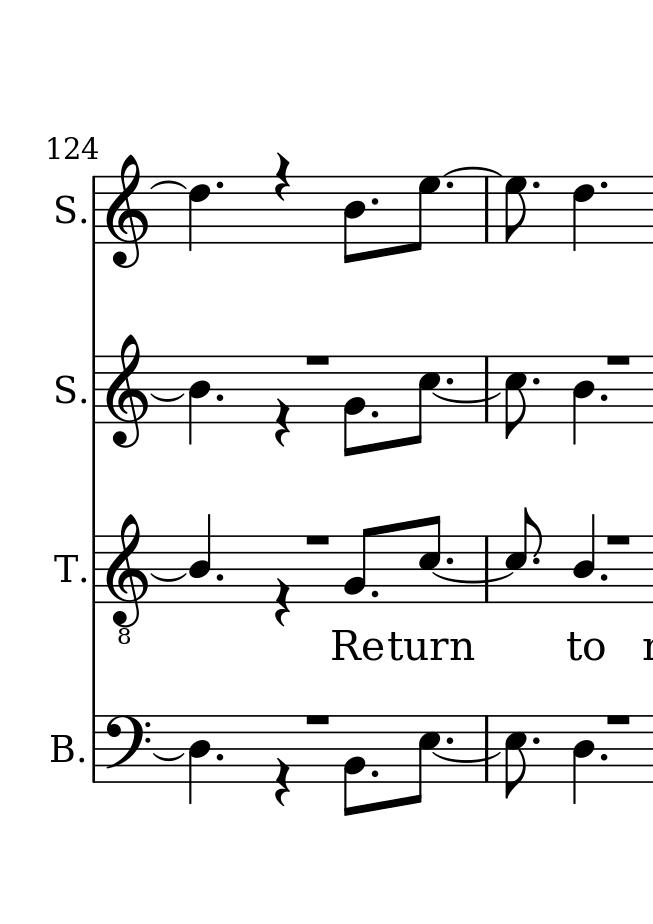1: (47, 137, 60, 161)
2: (62, 136, 80, 160)
4: (78, 137, 99, 162)
4_4: (570, 354, 596, 448), (185, 712, 211, 806), (187, 352, 212, 449), (188, 511, 213, 607), (572, 511, 596, 607), (571, 713, 596, 805)
4_6: (187, 173, 214, 250), (571, 174, 596, 255)
8_2: (339, 354, 367, 459), (343, 527, 377, 605), (341, 714, 366, 817)
8_4: (341, 173, 366, 266)
8_5: (505, 503, 545, 606), (407, 712, 441, 805), (406, 355, 440, 446), (416, 514, 442, 606), (501, 713, 527, 799), (504, 354, 527, 439)
8_7: (405, 175, 441, 256), (503, 174, 528, 248)
Fclef: (104, 715, 151, 785)
Gclef: (106, 152, 151, 269), (107, 327, 147, 449)
Lower_Gclef: (106, 509, 148, 645)
Rests1: (604, 531, 636, 552), (302, 349, 334, 369), (602, 349, 632, 370), (300, 533, 335, 550), (303, 711, 335, 727), (601, 709, 633, 725)
Rests4: (272, 393, 298, 457), (269, 756, 292, 808), (271, 575, 291, 630), (275, 152, 291, 202)
Single_barline: (86, 537, 103, 605), (478, 715, 495, 782), (479, 178, 496, 242), (87, 356, 103, 423), (479, 356, 495, 422), (479, 537, 495, 602), (87, 176, 102, 245), (86, 715, 101, 783)
Slur: (433, 573, 518, 584), (427, 392, 502, 404), (433, 752, 503, 762), (446, 165, 501, 177), (149, 179, 187, 193), (148, 392, 185, 404), (149, 572, 189, 583), (150, 753, 188, 762)
dot: (596, 178, 611, 193), (211, 178, 226, 192), (212, 391, 225, 405), (597, 571, 611, 584), (212, 572, 227, 584), (596, 392, 610, 404), (213, 751, 225, 764), (443, 179, 455, 192), (368, 768, 380, 780), (370, 194, 380, 208), (443, 376, 455, 387), (530, 178, 541, 190), (369, 407, 380, 419), (530, 734, 540, 747), (444, 735, 455, 746), (442, 555, 453, 566), (531, 555, 541, 567), (598, 752, 611, 761), (370, 589, 380, 599), (531, 377, 541, 386)
